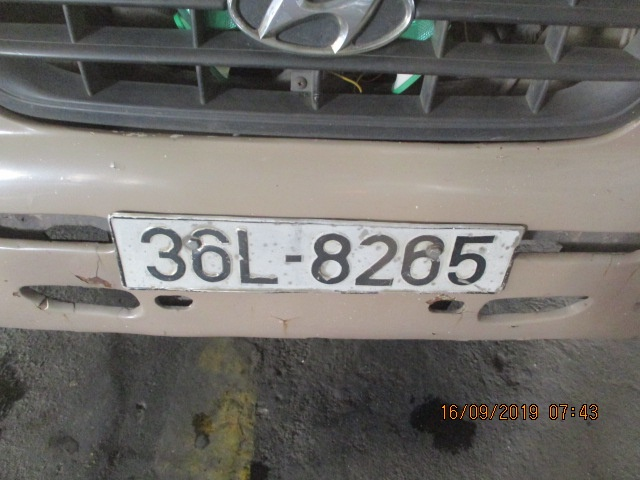number_plate: (113, 217, 512, 297)
